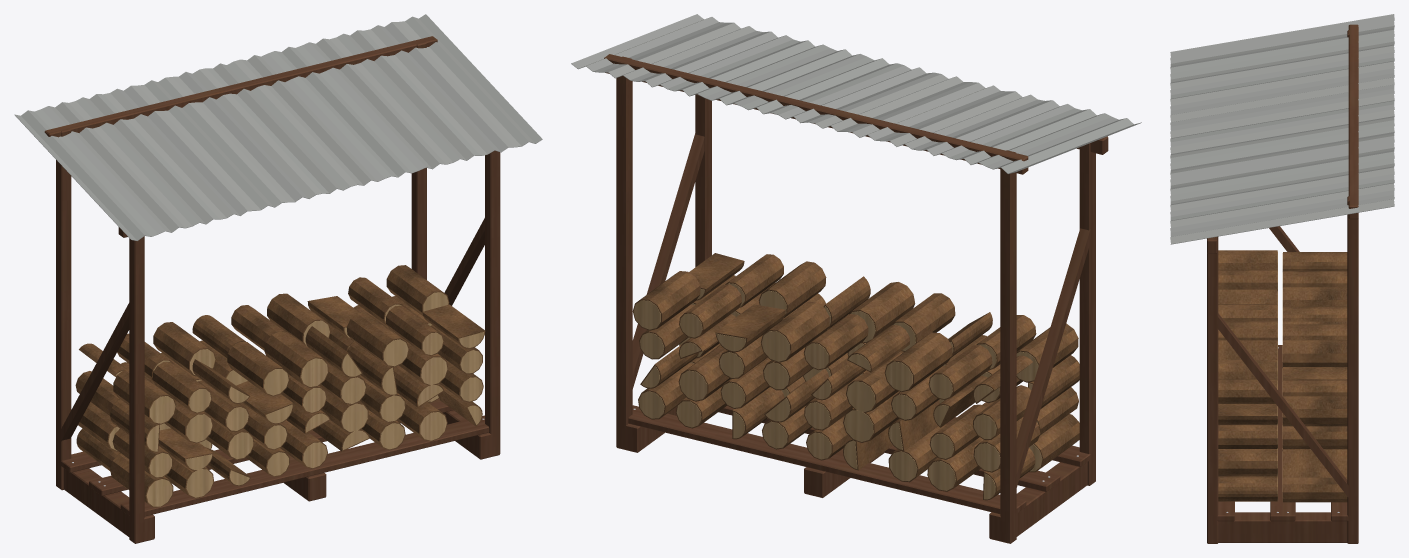
File: lenheiro.glb
3 renders of one model, left to right at view 1: azimuth 30°, elevation 25°; view 2: azimuth 150°, elevation 25°; view 3: azimuth 270°, elevation 25°, orthographic. The views are drawn at different scales.
Parts seen in each view (by area): view 1: lenheiro_telha_ondulada, lenheiro_madeira_escura, lenheiro_camada_4_madeira_lenha, lenheiro_camada_3_madeira_lenha, lenheiro_camada_2_madeira_lenha, lenheiro_camada_1_madeira_lenha, lenheiro_camada_4_madeira_crua, lenheiro_camada_3_madeira_crua, lenheiro_camada_1_madeira_crua, lenheiro_camada_2_madeira_crua; view 2: lenheiro_madeira_escura, lenheiro_telha_ondulada, lenheiro_camada_4_madeira_lenha, lenheiro_camada_2_madeira_lenha, lenheiro_camada_1_madeira_lenha, lenheiro_camada_3_madeira_lenha, lenheiro_camada_4_madeira_crua, lenheiro_camada_2_madeira_crua, lenheiro_camada_1_madeira_crua, lenheiro_camada_3_madeira_crua; view 3: lenheiro_telha_ondulada, lenheiro_camada_4_madeira_lenha, lenheiro_madeira_escura, lenheiro_camada_2_madeira_lenha, lenheiro_camada_1_madeira_lenha, lenheiro_camada_3_madeira_lenha, lenheiro_camada_4_madeira_crua.
Boxes of the visible parts, <box> form: lenheiro_telha_ondulada: <box>14,14,542,240</box>; lenheiro_madeira_escura: <box>44,36,500,543</box>; lenheiro_camada_4_madeira_lenha: <box>79,265,485,424</box>; lenheiro_camada_3_madeira_lenha: <box>75,296,482,452</box>; lenheiro_camada_2_madeira_lenha: <box>78,358,483,478</box>; lenheiro_camada_1_madeira_lenha: <box>76,383,482,507</box>; lenheiro_camada_4_madeira_crua: <box>115,292,484,423</box>; lenheiro_camada_3_madeira_crua: <box>146,323,482,451</box>; lenheiro_camada_1_madeira_crua: <box>146,395,481,506</box>; lenheiro_camada_2_madeira_crua: <box>108,377,482,477</box>; lenheiro_madeira_escura: <box>604,54,1108,543</box>; lenheiro_telha_ondulada: <box>571,14,1141,173</box>; lenheiro_camada_4_madeira_lenha: <box>632,253,1078,403</box>; lenheiro_camada_2_madeira_lenha: <box>640,340,1078,472</box>; lenheiro_camada_1_madeira_lenha: <box>638,343,1079,500</box>; lenheiro_camada_3_madeira_lenha: <box>639,275,1079,439</box>; lenheiro_camada_4_madeira_crua: <box>633,283,1038,402</box>; lenheiro_camada_2_madeira_crua: <box>641,337,1037,471</box>; lenheiro_camada_1_madeira_crua: <box>639,362,1042,499</box>; lenheiro_camada_3_madeira_crua: <box>640,303,1032,438</box>; lenheiro_telha_ondulada: <box>1170,14,1394,244</box>; lenheiro_camada_4_madeira_lenha: <box>1218,250,1347,426</box>; lenheiro_madeira_escura: <box>1207,24,1358,543</box>; lenheiro_camada_2_madeira_lenha: <box>1218,449,1347,477</box>; lenheiro_camada_1_madeira_lenha: <box>1218,449,1347,502</box>; lenheiro_camada_3_madeira_lenha: <box>1218,321,1347,448</box>; lenheiro_camada_4_madeira_crua: <box>1277,252,1282,424</box>.
Size of the model in its own units: 1.8 by 1.53 by 0.8882.
5 materials, 3 textured.
